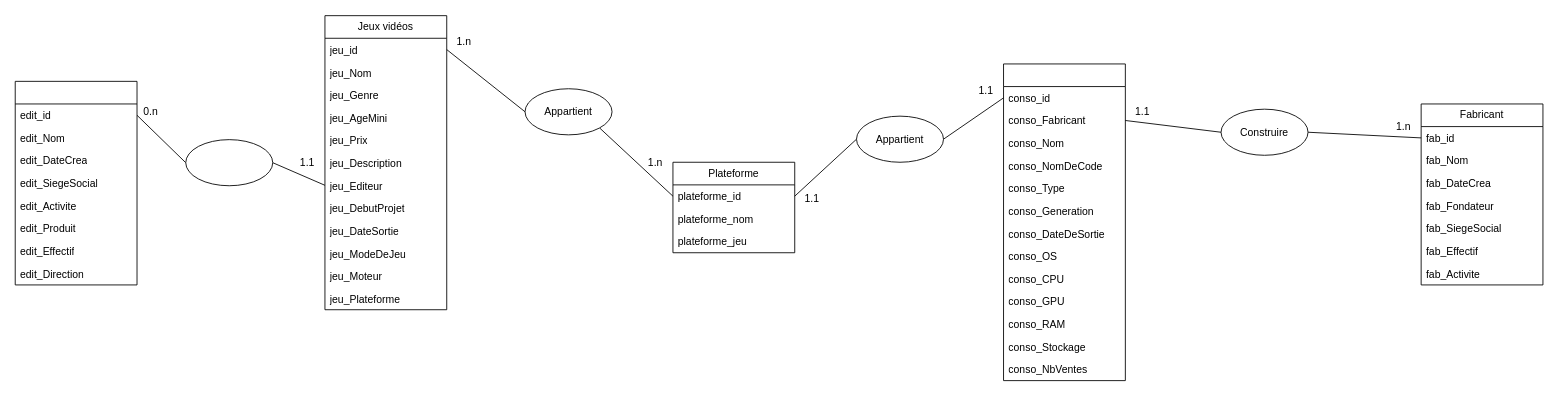
Some shapes in this 1558 by 398 pixel diagram are drawn without their labels. The box of each missing label's shape, as (x1, y1, x2, y2) in pixels:
Avoir: (185, 139, 273, 186)
Console: (1003, 63, 1125, 381)
Editeur: (14, 80, 137, 285)
